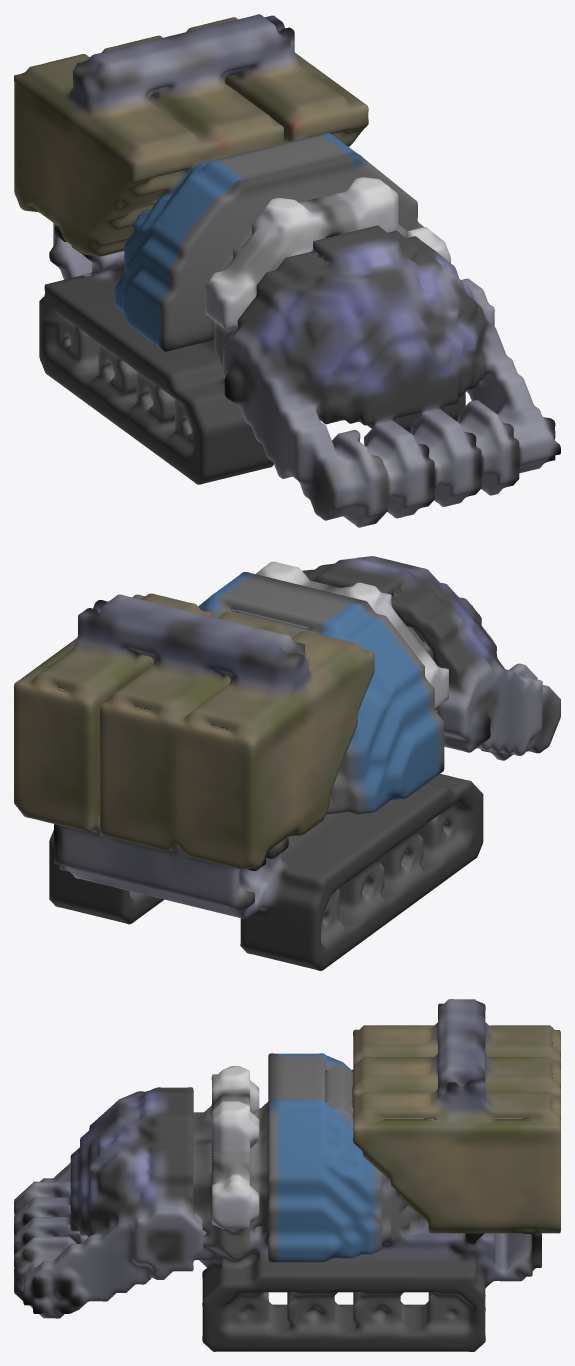
The model's file is chrono_miner.glb.
The picture shows the model from 3 angles, top to bottom: view 1: azimuth 30°, elevation 25°; view 2: azimuth 150°, elevation 25°; view 3: azimuth 270°, elevation 25°; orthographic projection. The views are drawn at different scales.
Parts seen in each view (by area): view 1: chrono_miner; view 2: chrono_miner; view 3: chrono_miner.
Part boxes in pixels (x1=…): chrono_miner: x1=14, y1=14, x2=560, y2=527; chrono_miner: x1=14, y1=556, x2=560, y2=970; chrono_miner: x1=14, y1=999, x2=560, y2=1351.
Bounding box in the file's own units: 2.37 × 2.55 × 4.79.
